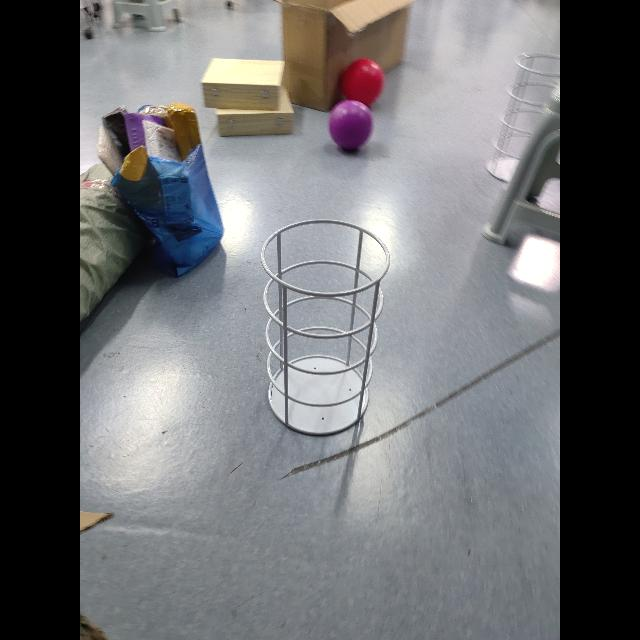S: (258, 218, 394, 440)
